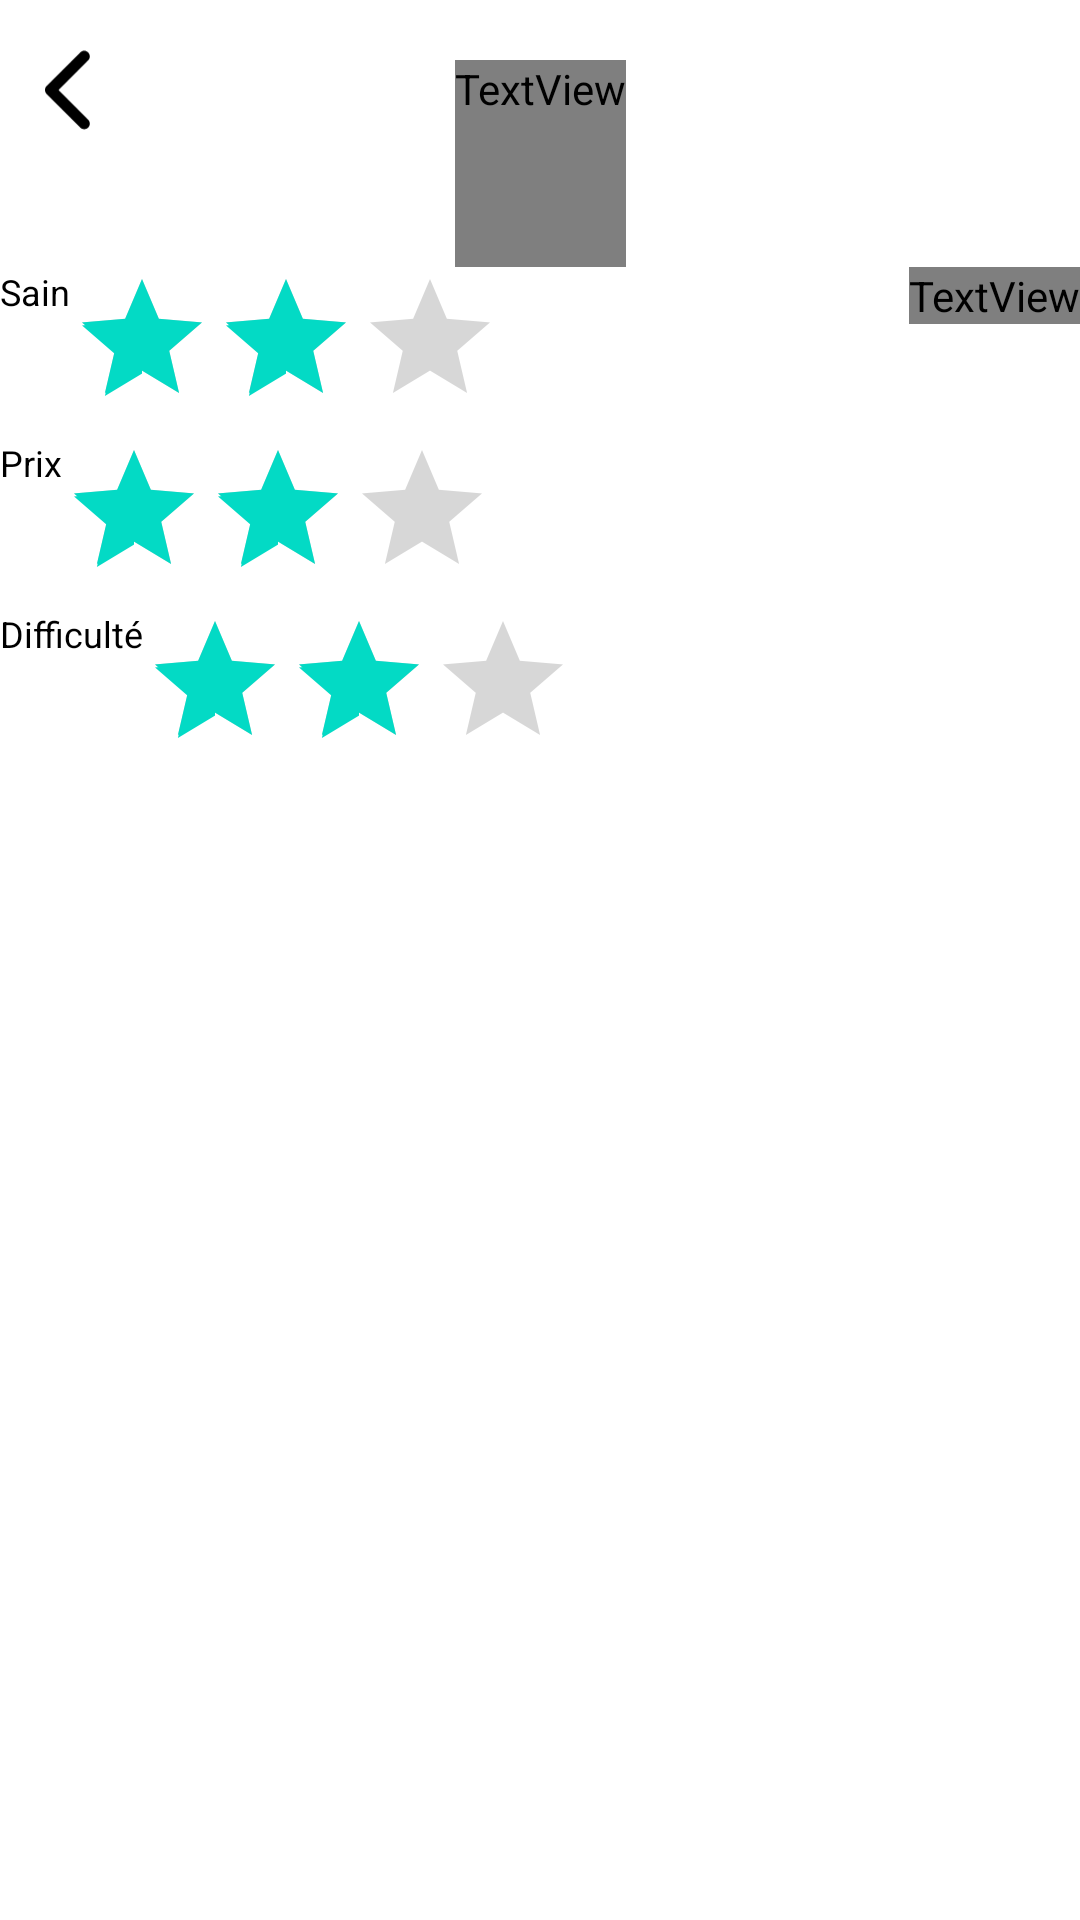

Screen size 1080×1920. Icon name, then its box in pixels as BBox(x1, y1, x2, y2):
back: BBox(45, 50, 90, 130)
